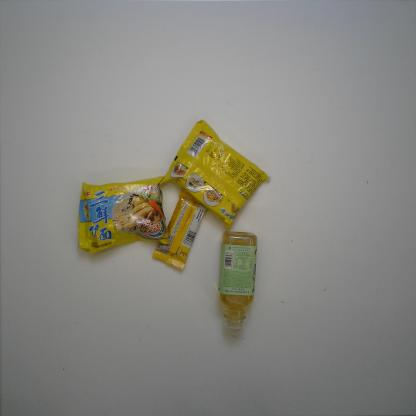Chocolate: (152, 186, 208, 271)
Drink: (217, 231, 258, 330)
Instant Noodles: (159, 120, 271, 230), (76, 176, 171, 255)
